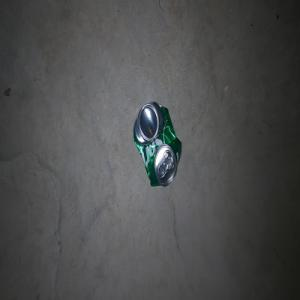SodaCan: (132, 100, 182, 187)
